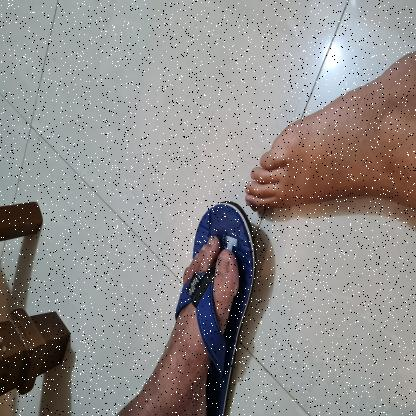leg: (241, 47, 416, 226), (108, 221, 248, 416)
